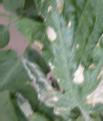Tomato leaf bacterial spot: (15, 0, 103, 121)
